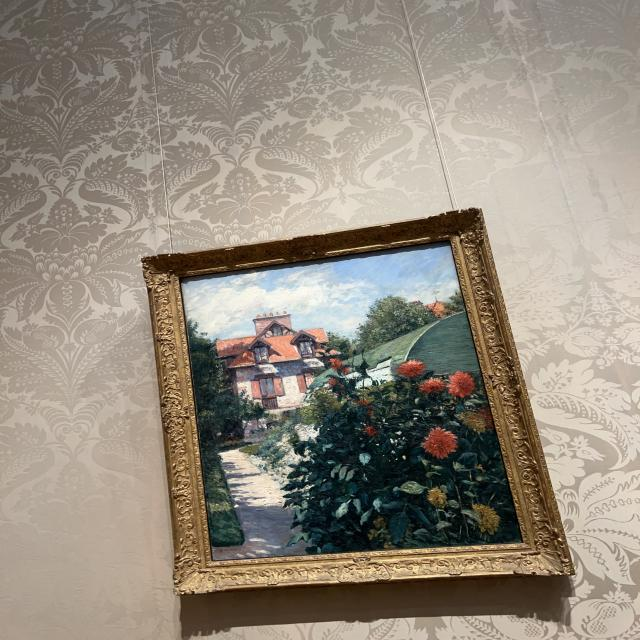summer: (180, 242, 522, 560)
